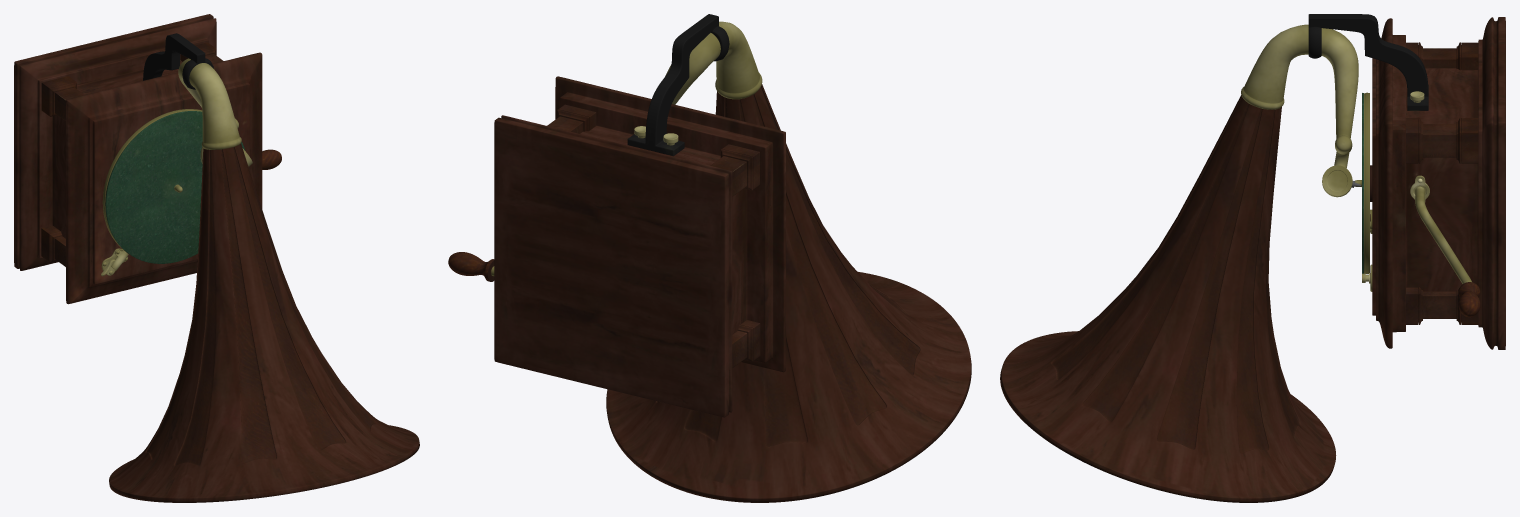
The model's file is 20343_Victor_V_phonograph_v2_Texture.obj.
The picture shows the model from 3 angles, left to right: view 1: azimuth 30°, elevation 25°; view 2: azimuth 150°, elevation 25°; view 3: azimuth 270°, elevation 25°; orthographic projection. The views are drawn at different scales.
Visible parts, largest first — view 1: 20343_Victor_V_phonograph_v2; view 2: 20343_Victor_V_phonograph_v2; view 3: 20343_Victor_V_phonograph_v2.
Part boxes in pixels (x1,y1,x2,y2): 20343_Victor_V_phonograph_v2: [14, 14, 419, 502]; 20343_Victor_V_phonograph_v2: [448, 14, 971, 502]; 20343_Victor_V_phonograph_v2: [1000, 14, 1505, 502].
Bounding box in the file's own units: 70.98 × 94.49 × 97.58.
Materials: 1 (1 with a texture image).
